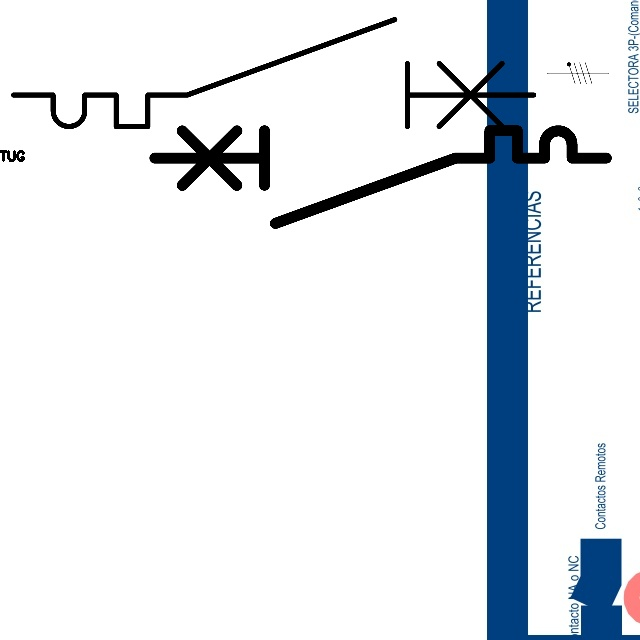interruptor_termomagnetico: (0, 6, 547, 140), (143, 119, 618, 235)
